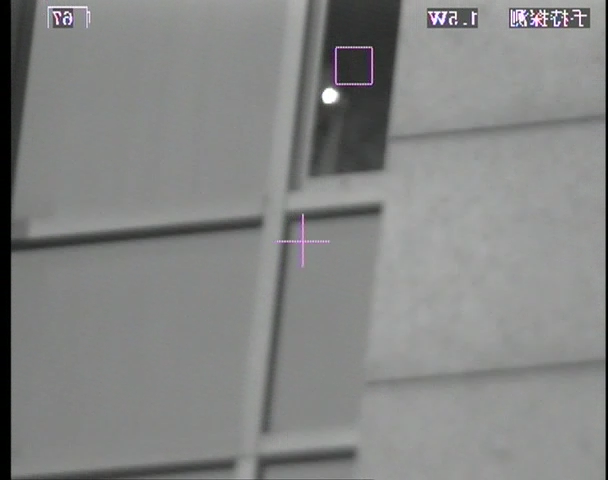my: (321, 86, 339, 105)
